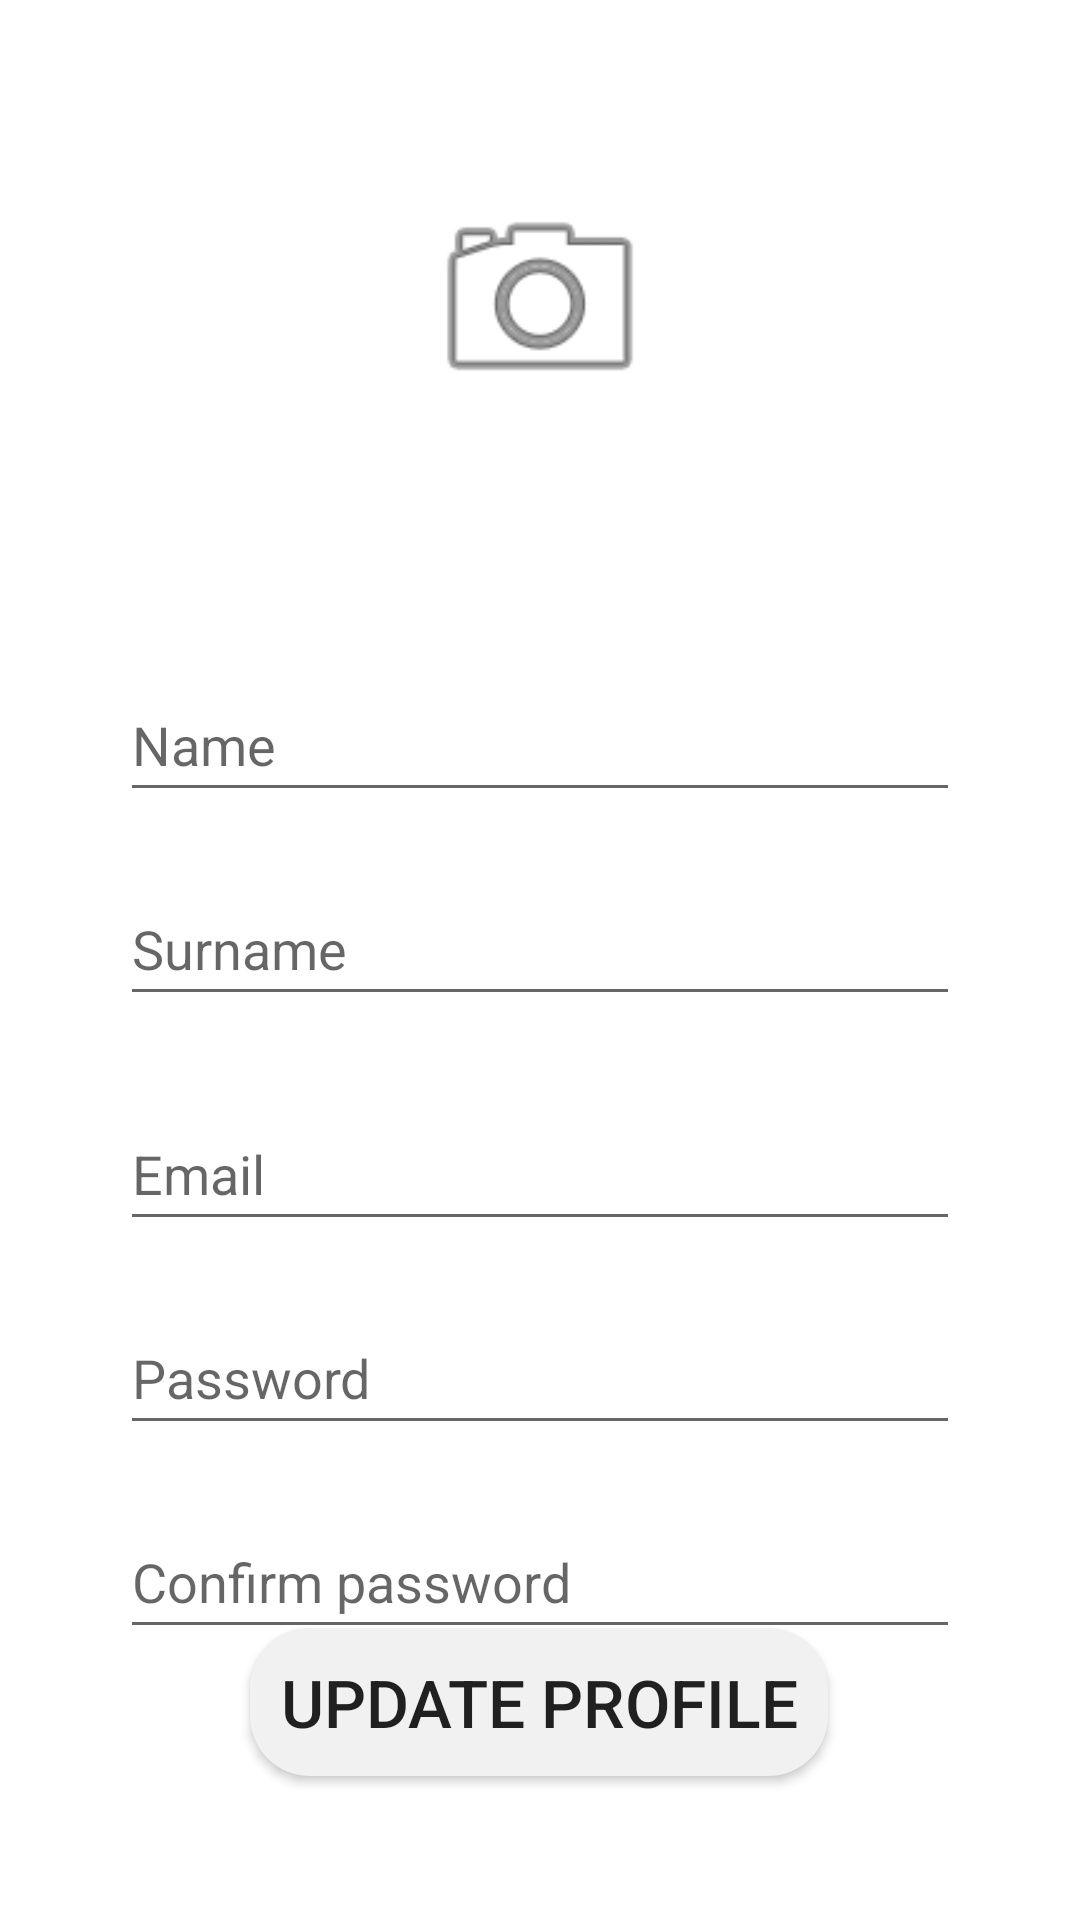

Named icons in this screenshot (1080 x 1920) and their centers, (x,y):
camera: (540,296)
